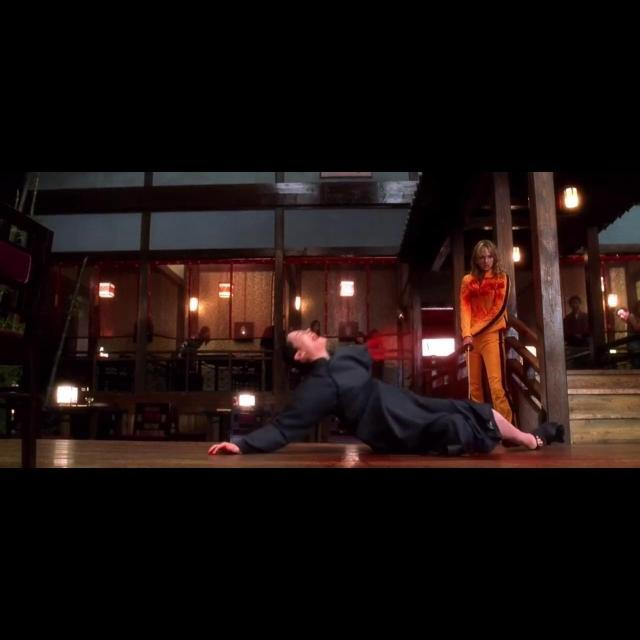blood: (462, 270, 508, 342), (366, 327, 417, 360)
